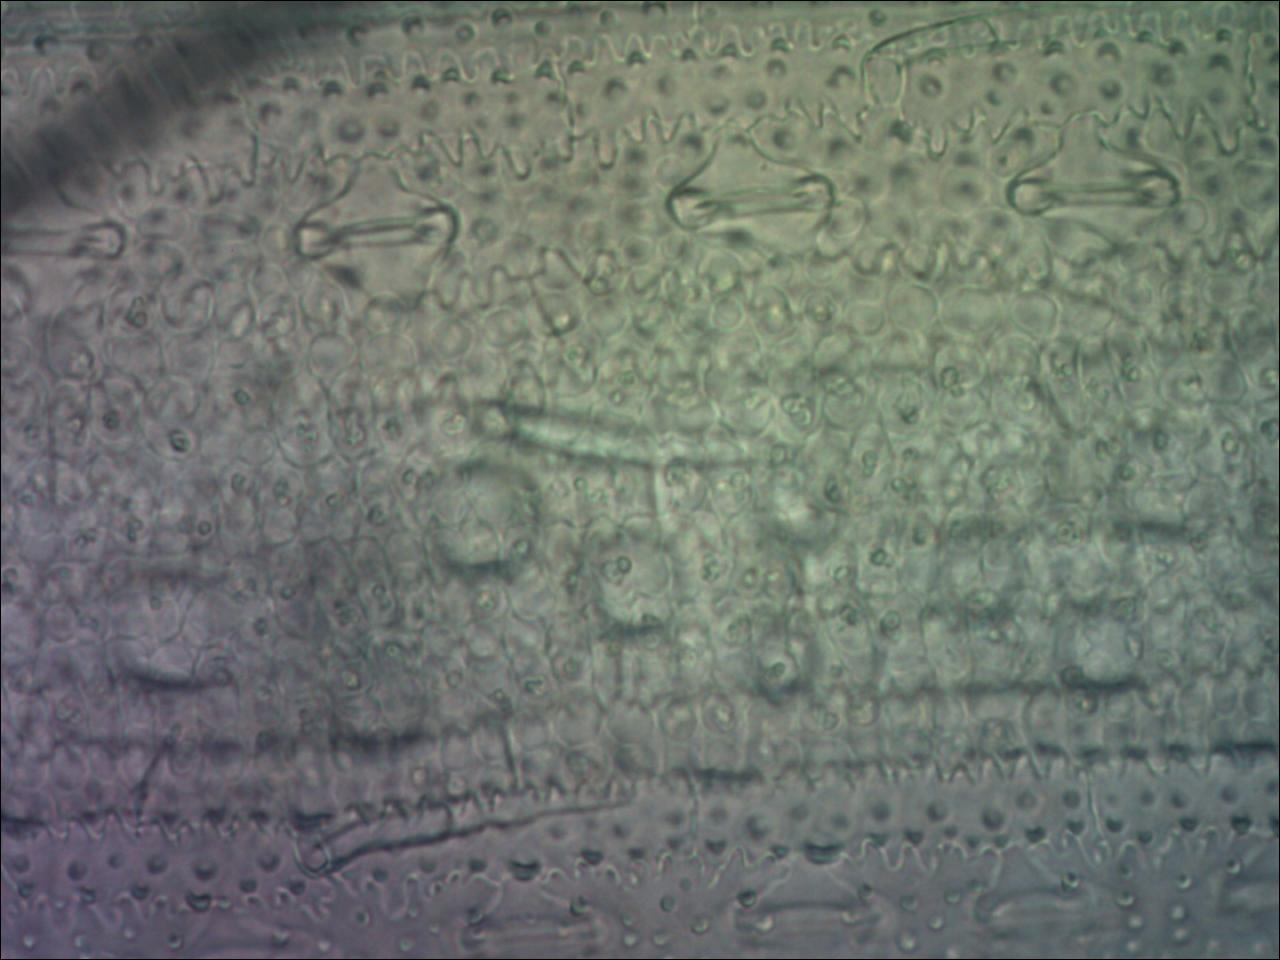stoma: (286, 158, 473, 304), (664, 130, 840, 273), (1004, 126, 1189, 254), (956, 845, 1122, 960), (1, 186, 134, 314), (728, 859, 892, 960), (447, 884, 608, 960), (159, 885, 322, 960), (1212, 846, 1280, 959)
